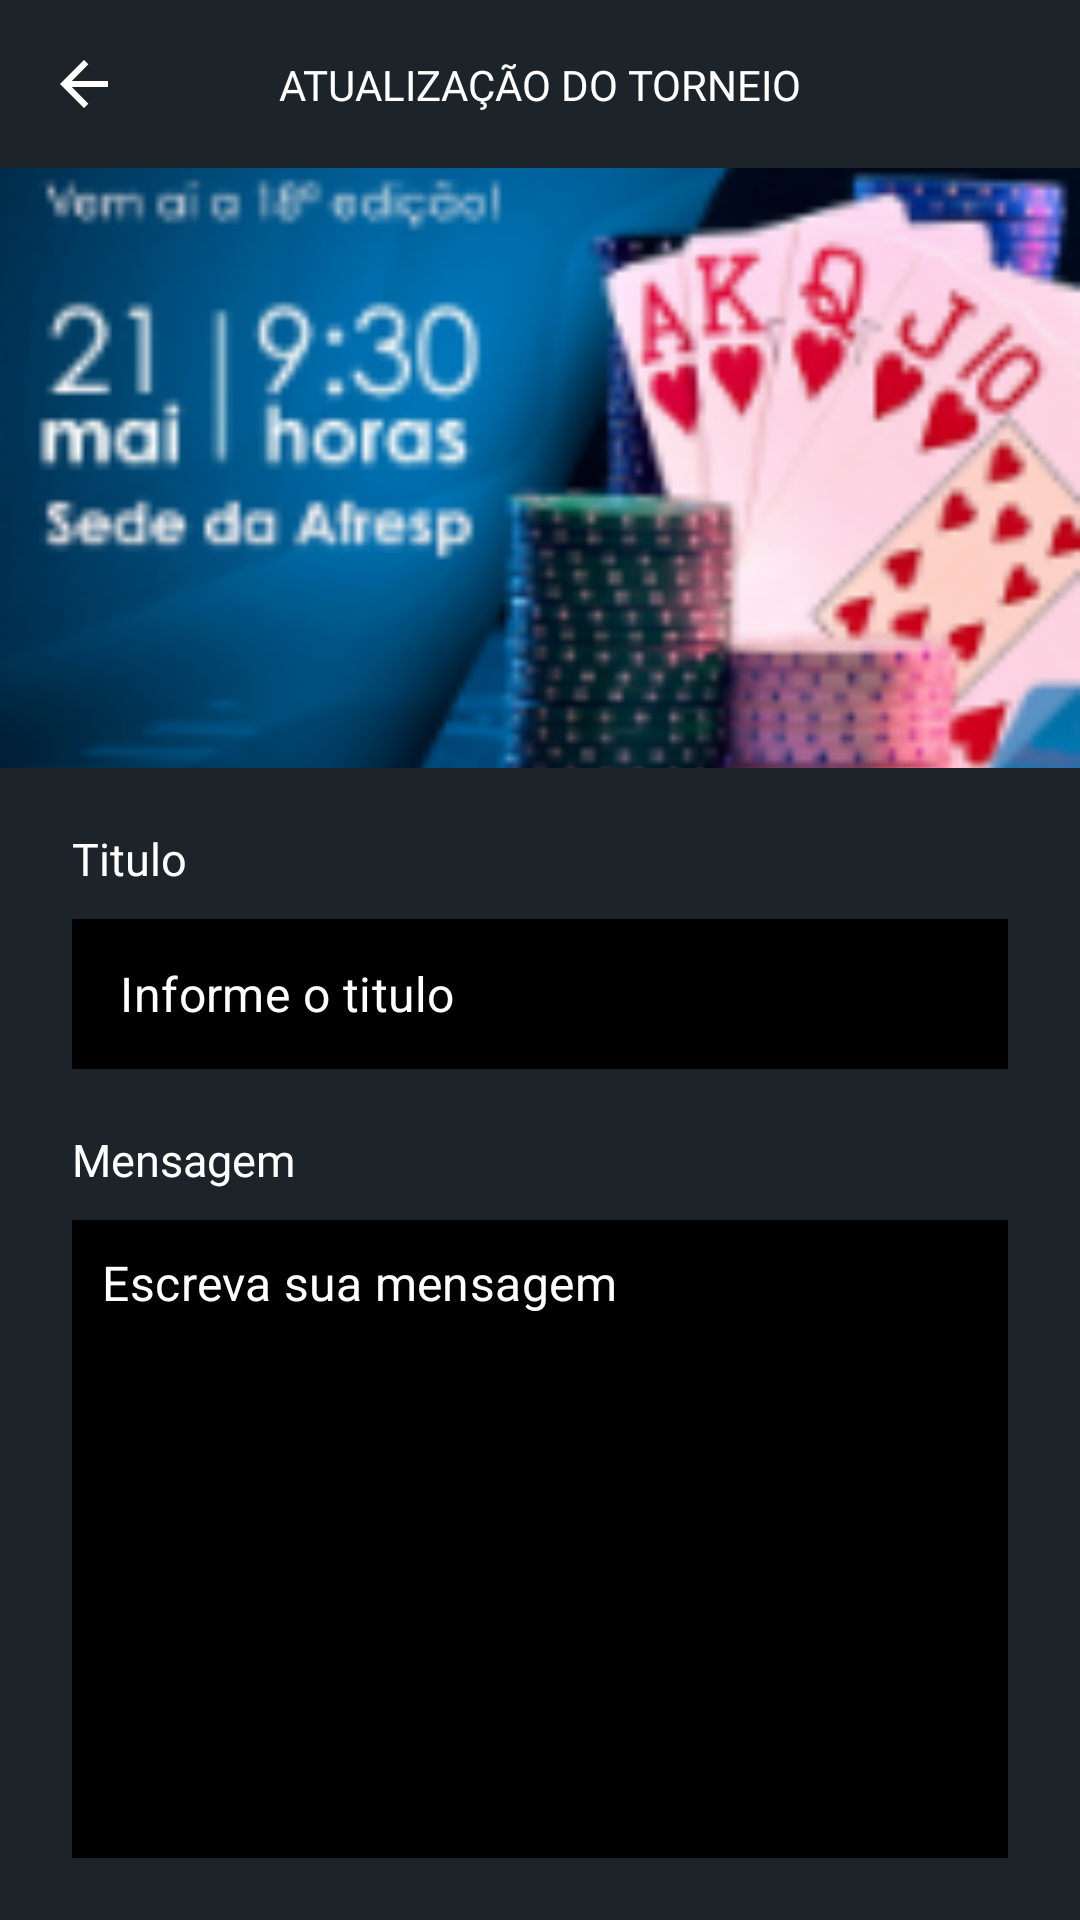

Named icons in this screenshot (1080px×1920px) and their centers, [x,y]:
left arrow: [84,84]
